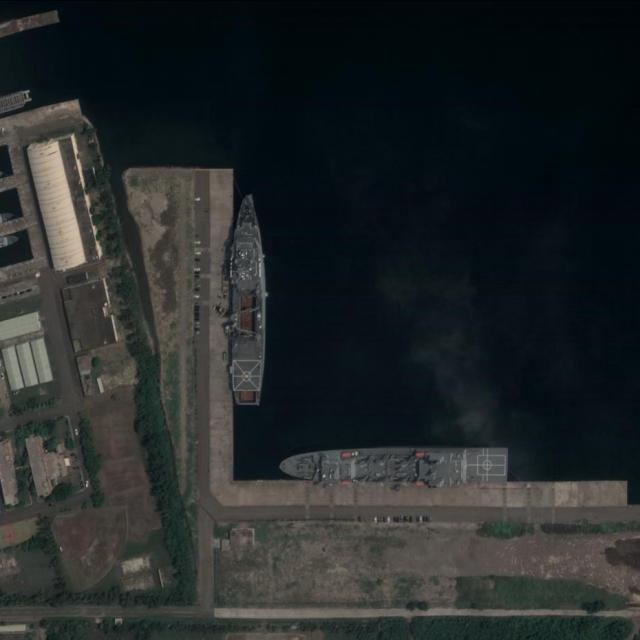Commander: (279, 445, 512, 482)
Landing: (231, 195, 266, 405)
